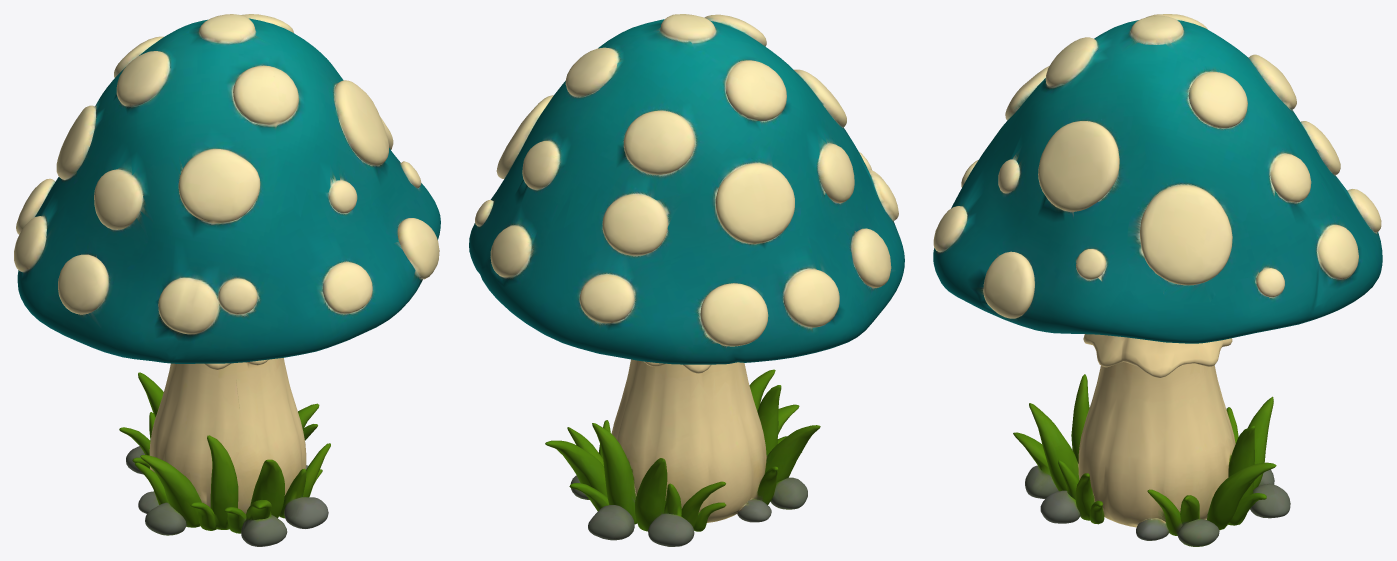
The model's file is shroom_teal.glb.
3 views of the same model, side by side, from view 1: azimuth 30°, elevation 25°; view 2: azimuth 150°, elevation 25°; view 3: azimuth 270°, elevation 25° (orthographic).
Visible parts, largest first — view 1: tripo_node_09c8c3e2-41bb-40d8-acca-1e58ffd311c4; view 2: tripo_node_09c8c3e2-41bb-40d8-acca-1e58ffd311c4; view 3: tripo_node_09c8c3e2-41bb-40d8-acca-1e58ffd311c4.
Boxes of the visible parts, bbox=[...] form: tripo_node_09c8c3e2-41bb-40d8-acca-1e58ffd311c4: bbox=[14, 14, 440, 546]; tripo_node_09c8c3e2-41bb-40d8-acca-1e58ffd311c4: bbox=[469, 14, 904, 546]; tripo_node_09c8c3e2-41bb-40d8-acca-1e58ffd311c4: bbox=[933, 14, 1382, 546].
Bounding box in the file's own units: 1.29 × 1.6 × 1.36.
1 material, 1 textured.
